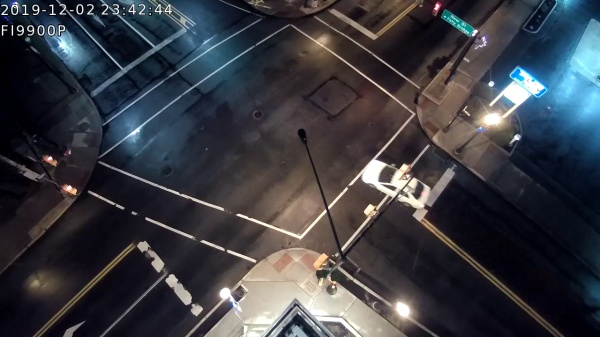car: (345, 156, 445, 208)
